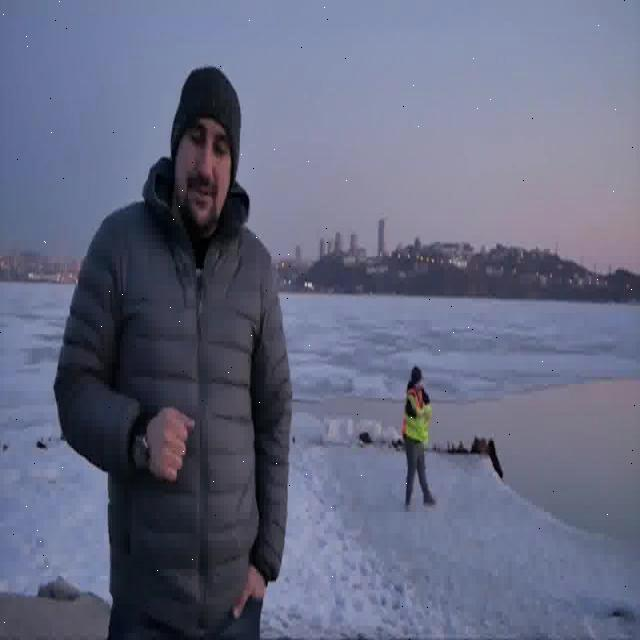Person: (49, 66, 292, 640), (394, 363, 437, 503)
Vest: (395, 385, 434, 442)
